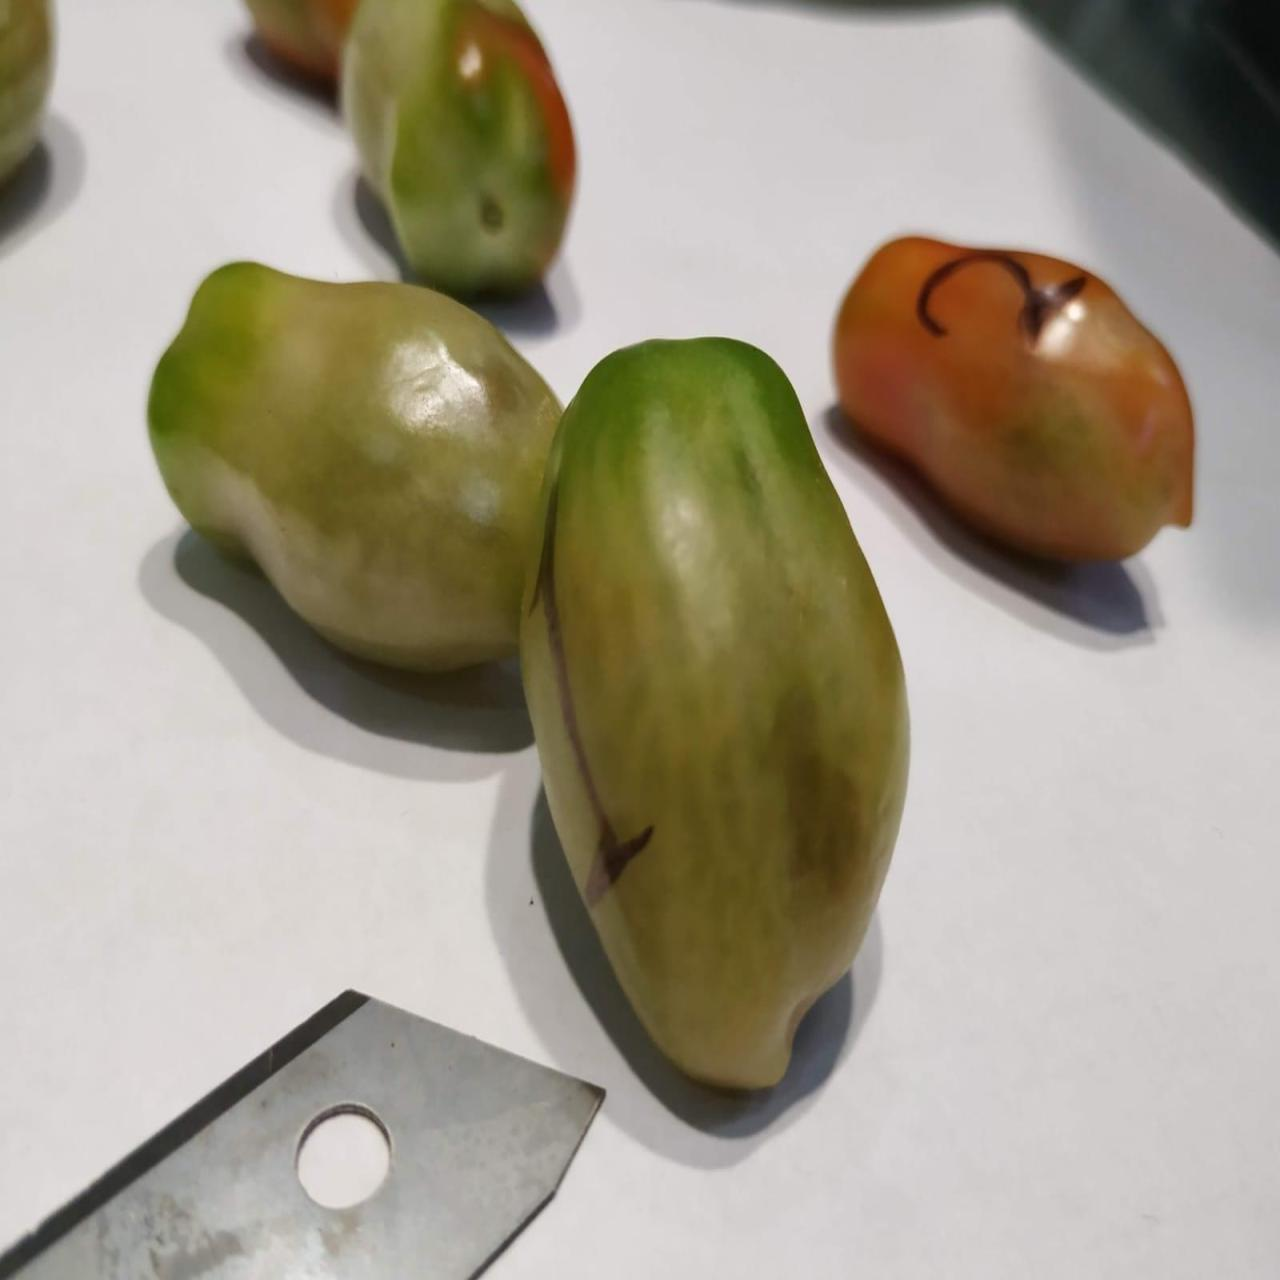T_F_R: (519, 338, 911, 1090), (149, 264, 564, 670), (836, 238, 1196, 561)
